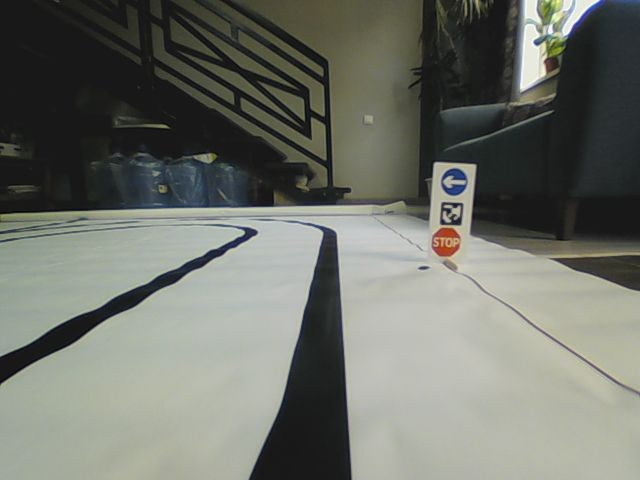Stop: (430, 226, 462, 258)
